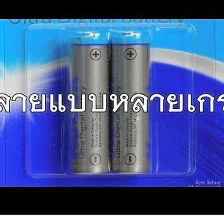battery: (105, 29, 153, 176), (65, 30, 110, 178)
